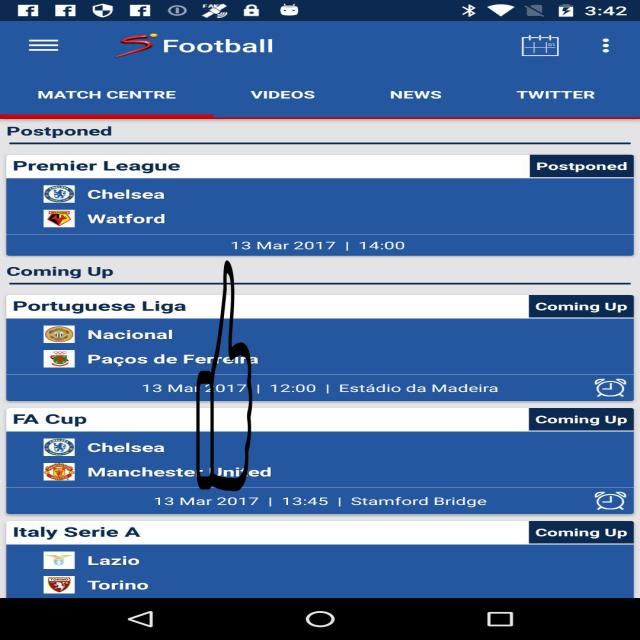privacy zuckering: (196, 260, 253, 492)
